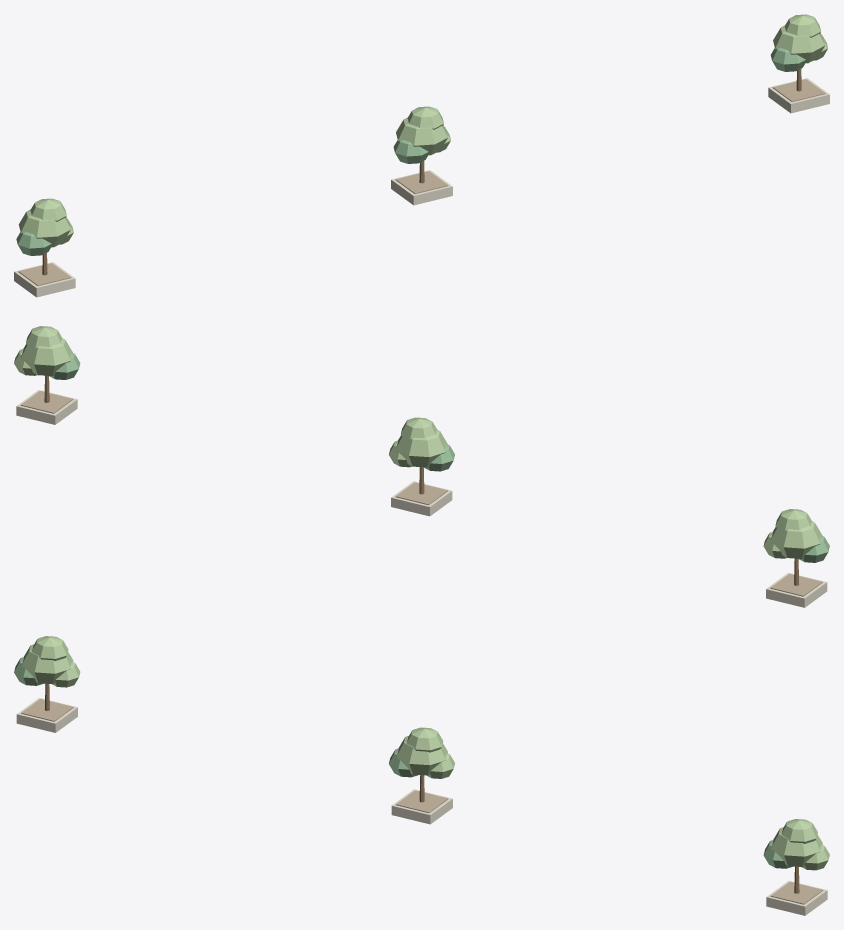
File: Planters08.glb
3 renders of one model, top to bottom at view 1: azimuth 30°, elevation 25°; view 2: azimuth 150°, elevation 25°; view 3: azimuth 330°, elevation 25°, orthographic.
Visible parts, largest first — view 1: Planters08; view 2: Planters08; view 3: Planters08.
Part boxes in pixels (<box>): Planters08: <box>14,14,829,297</box>; Planters08: <box>14,326,829,607</box>; Planters08: <box>14,636,829,915</box>.
Bounding box in the file's own units: 34.52 × 3.41 × 1.9.
